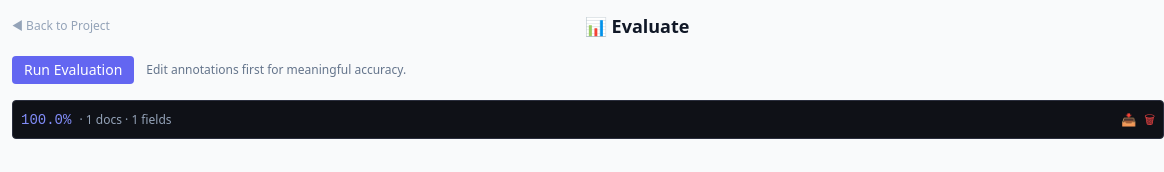
it: EvaluatePage › clicking 🗑 deletes the run and refreshes list
The width and height of the screenshot is (1164, 172).
Expected: the text "100.0%" is shown, [21,112,71,128]
Click the button titled "Delete run".
click(1150, 120)  # box [1144,112,1155,128]
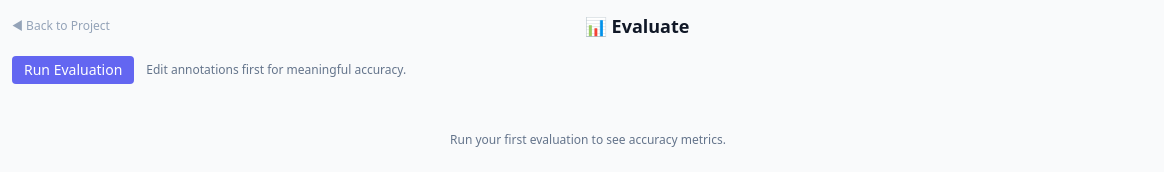
Expected: the text "100.0%" is gone
